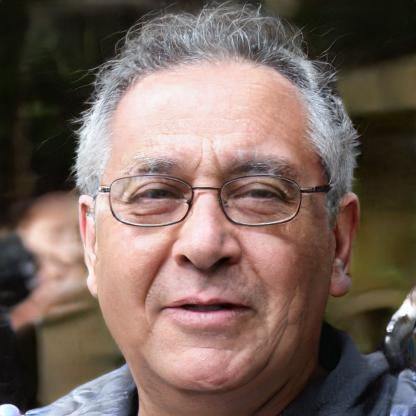glasses: (99, 166, 318, 233)
